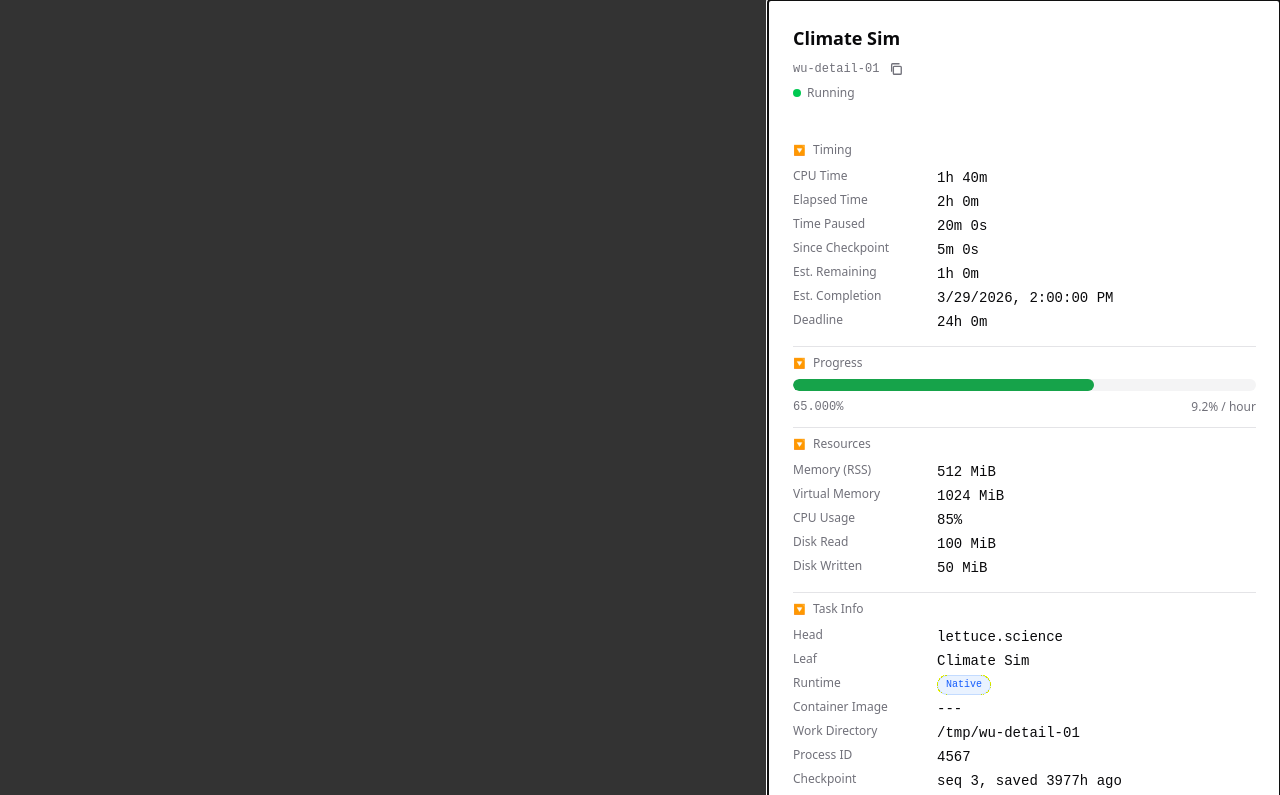
Test: TaskDetailPanel › collapses a section when its header is clicked
Expected: the text "CPU Time" is shown, [793, 167, 848, 184]
Step 1. Click the button "▶ Timing" → (832, 150), box [793, 134, 1256, 166]
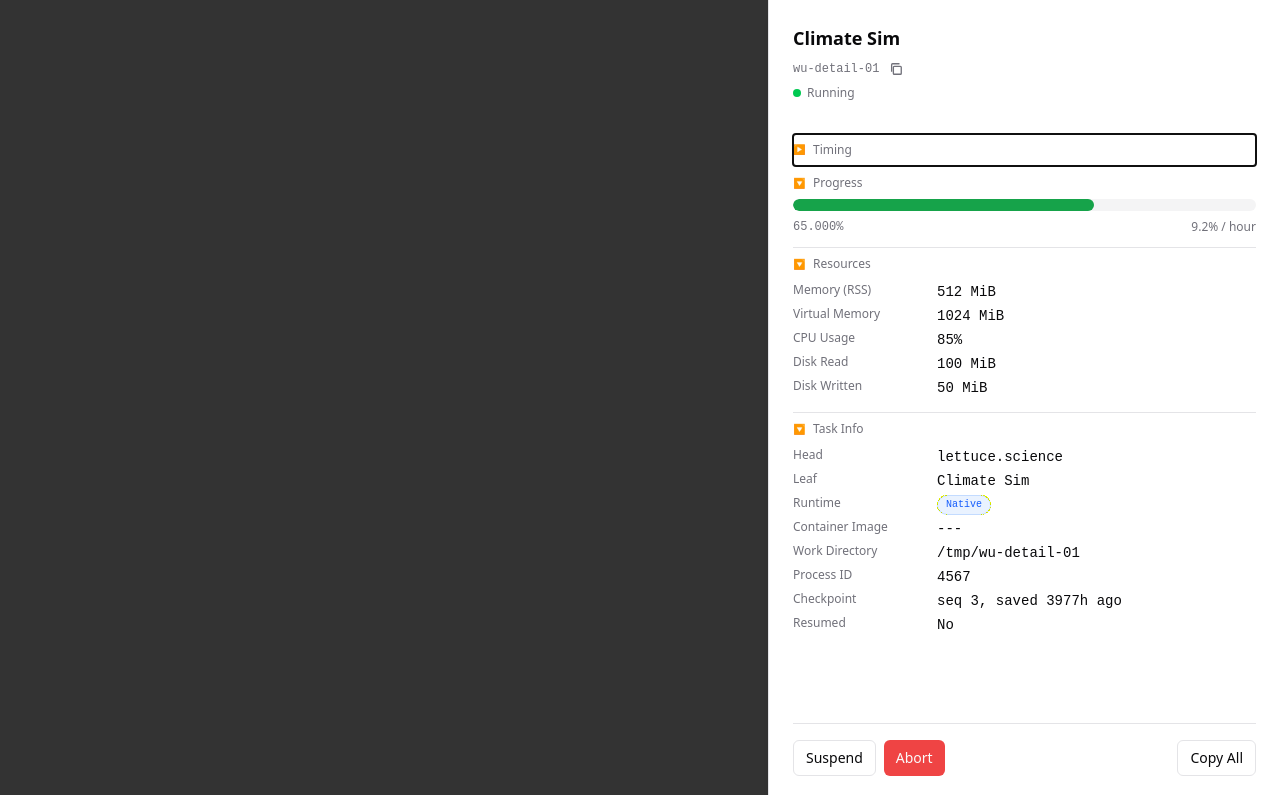
Expected: the text "CPU Time" is gone
